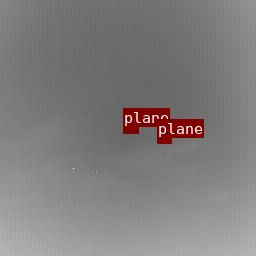plane: (123, 127, 138, 133), (157, 138, 171, 143)
